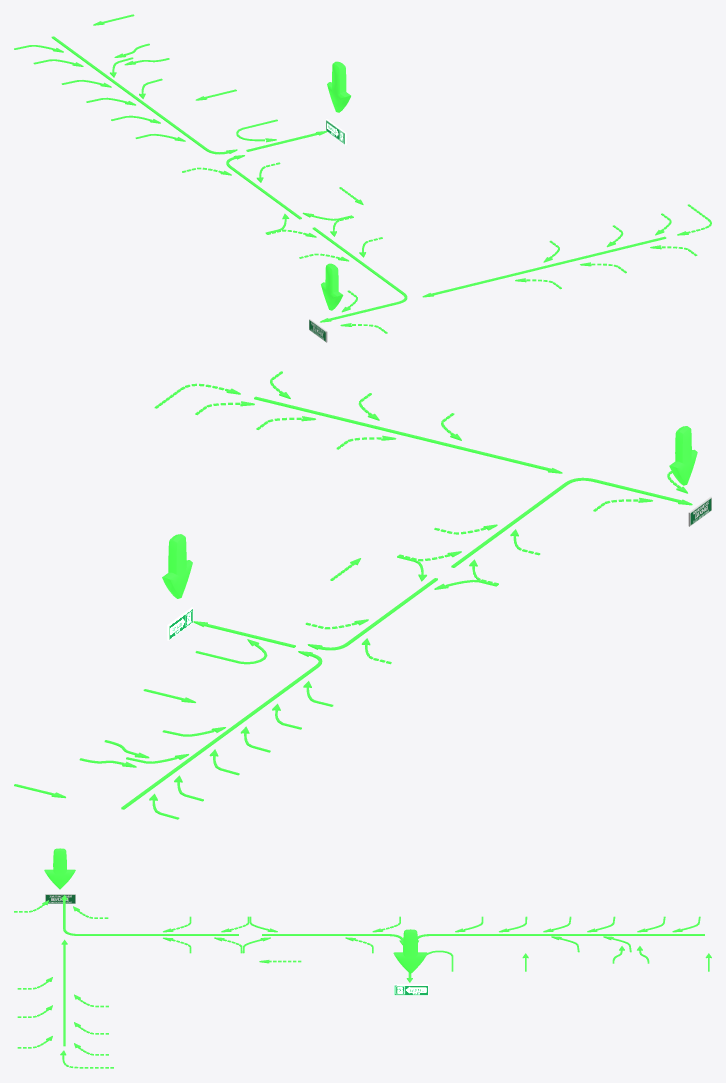
Rendered from Navigation_1.glb.
3 views of the same model, one above another, from view 1: azimuth 30°, elevation 25°; view 2: azimuth 150°, elevation 25°; view 3: azimuth 270°, elevation 25° (orthographic). The views are drawn at different scales.
Parts seen in each view (by area): view 1: Navigation_1; view 2: Navigation_1; view 3: Navigation_1.
Part boxes in pixels (x1=…): Navigation_1: x1=14, y1=14, x2=711, y2=342; Navigation_1: x1=14, y1=371, x2=711, y2=819; Navigation_1: x1=14, y1=848, x2=711, y2=1068.
Size of the model in its own units: 17.37 by 3.17 by 29.29.
3 materials, 2 textured.
